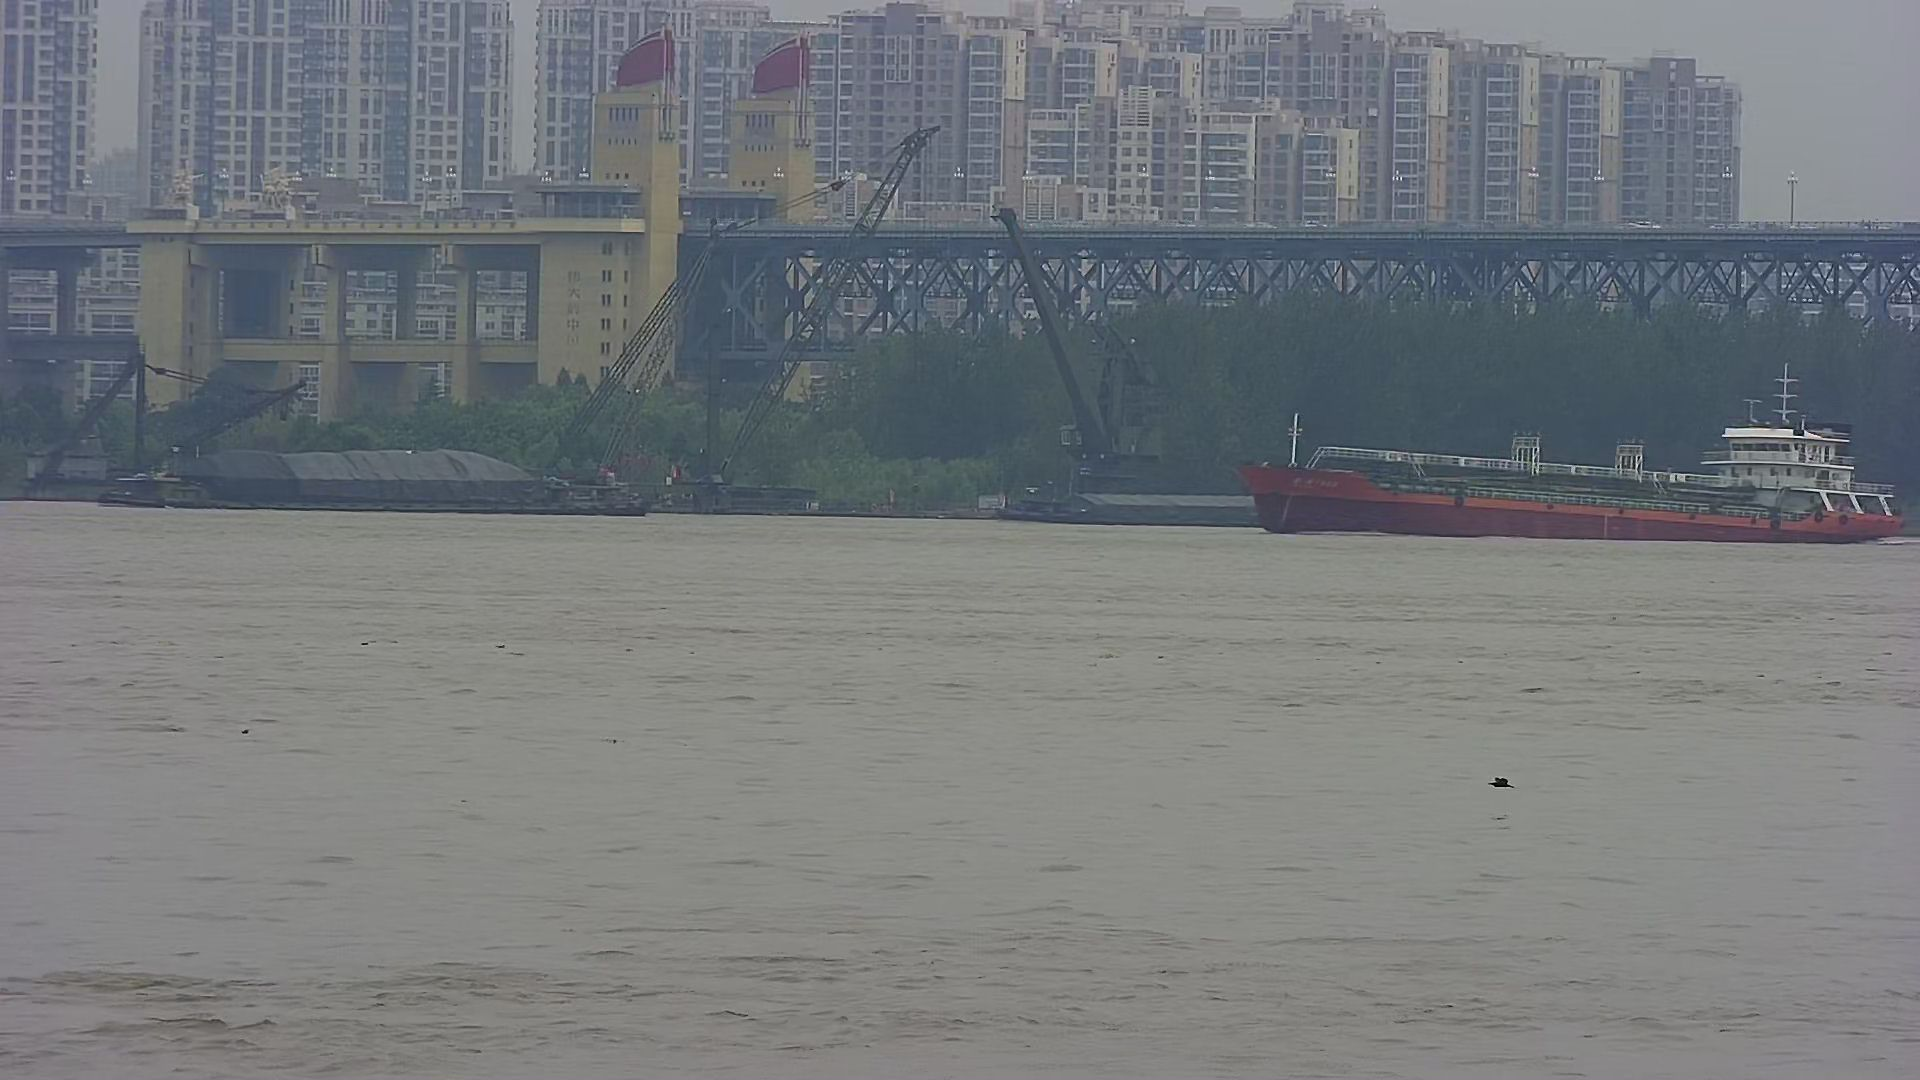ship: (1247, 385, 1907, 549), (164, 446, 644, 521)
